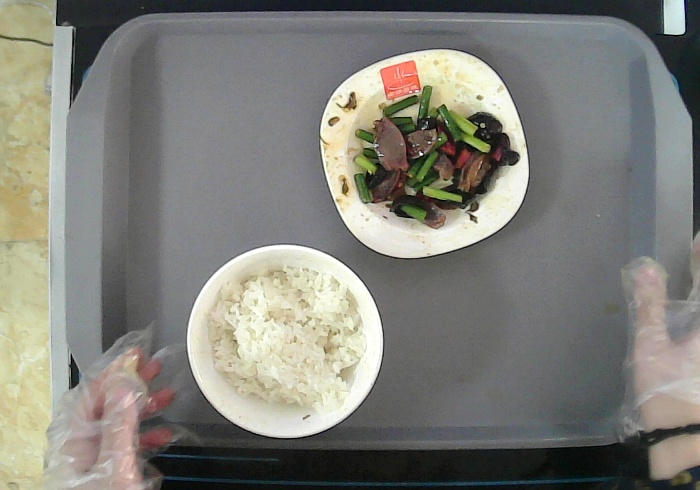SHKJ-Bai_Se_Si_Fang_Cai_Die: (321, 50, 528, 259)
SHKJ-Fan_Wan: (186, 243, 384, 438)
